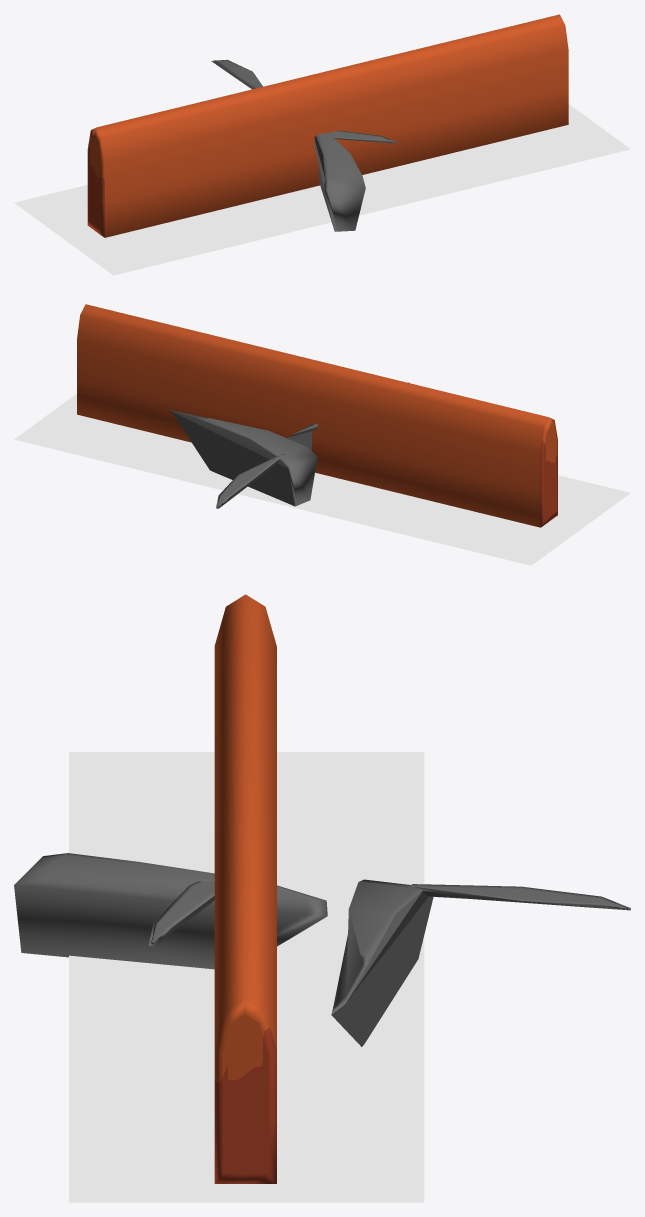
The model's file is NeutralObstacle1 (1).fbx.
3 renders of one model, top to bottom at view 1: azimuth 30°, elevation 25°; view 2: azimuth 150°, elevation 25°; view 3: azimuth 270°, elevation 25°, orthographic. The views are drawn at different scales.
Visible parts, largest first — view 1: BasicObstacle, Shadow, GibPiece4, GibPiece3, GibPiece1; view 2: BasicObstacle, Shadow, GibPiece2, GibPiece3, GibPiece4; view 3: Shadow, BasicObstacle, GibPiece4, GibPiece2, GibPiece3, GibPiece1.
Part boxes in pixels (left/top/right/bottom): BasicObstacle: left=87, top=14, right=568, bottom=237; Shadow: left=14, top=104, right=630, bottom=275; GibPiece4: left=314, top=133, right=365, bottom=231; GibPiece3: left=211, top=59, right=262, bottom=89; GibPiece1: left=326, top=130, right=397, bottom=143; BasicObstacle: left=77, top=304, right=557, bottom=527; Shadow: left=14, top=393, right=630, bottom=565; GibPiece2: left=169, top=409, right=317, bottom=506; GibPiece3: left=216, top=454, right=284, bottom=508; GibPiece4: left=286, top=382, right=409, bottom=450; Shadow: left=69, top=752, right=424, bottom=1202; BasicObstacle: left=214, top=594, right=276, bottom=1183; GibPiece4: left=14, top=853, right=327, bottom=969; GibPiece2: left=331, top=879, right=433, bottom=1046; GibPiece3: left=406, top=884, right=630, bottom=910; GibPiece1: left=148, top=881, right=214, bottom=946.
Size of the model in its own units: 2.04 by 0.3992 by 1.18.
